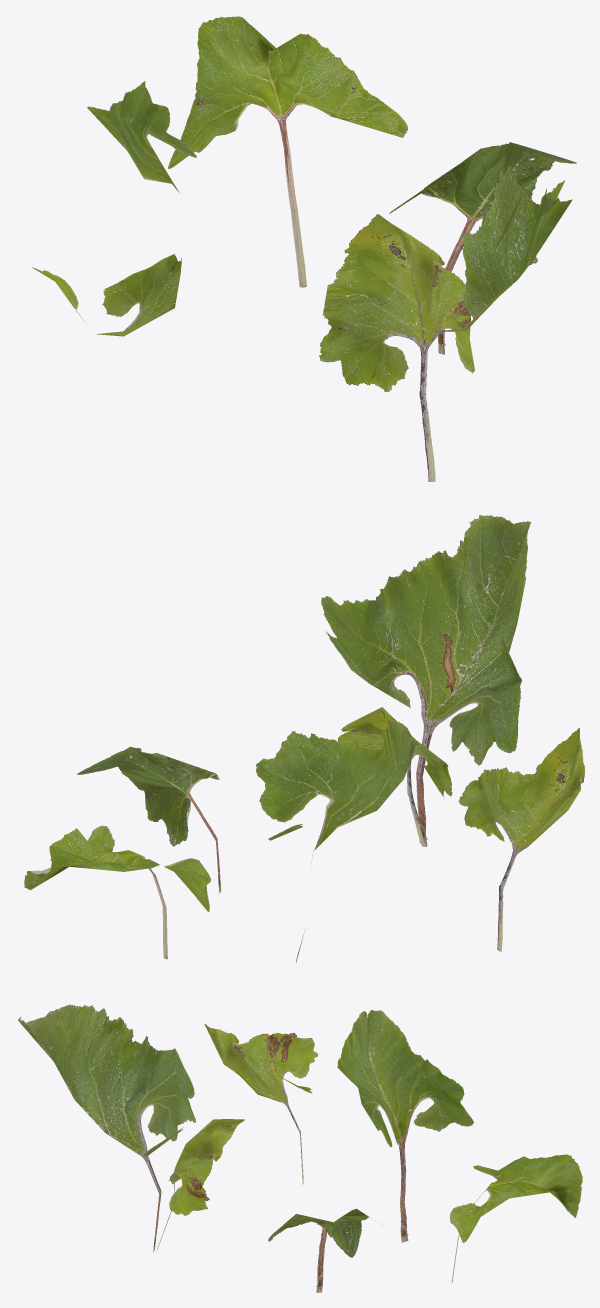
File: petasites_spurius_02.fbx
3 views of the same model, one above another, from view 1: azimuth 30°, elevation 25°; view 2: azimuth 150°, elevation 25°; view 3: azimuth 270°, elevation 25° (orthographic). The views are drawn at different scales.
Visible parts, largest first — view 1: petasites_spurius_02_LOD0; view 2: petasites_spurius_02_LOD0; view 3: petasites_spurius_02_LOD0.
Part boxes in pixels (x1=…): petasites_spurius_02_LOD0: x1=31, y1=16, x2=576, y2=481; petasites_spurius_02_LOD0: x1=24, y1=515, x2=584, y2=962; petasites_spurius_02_LOD0: x1=18, y1=1004, x2=582, y2=1292.
Size of what is drawn, in the model's own units: 73.55 by 43.9 by 96.48.
